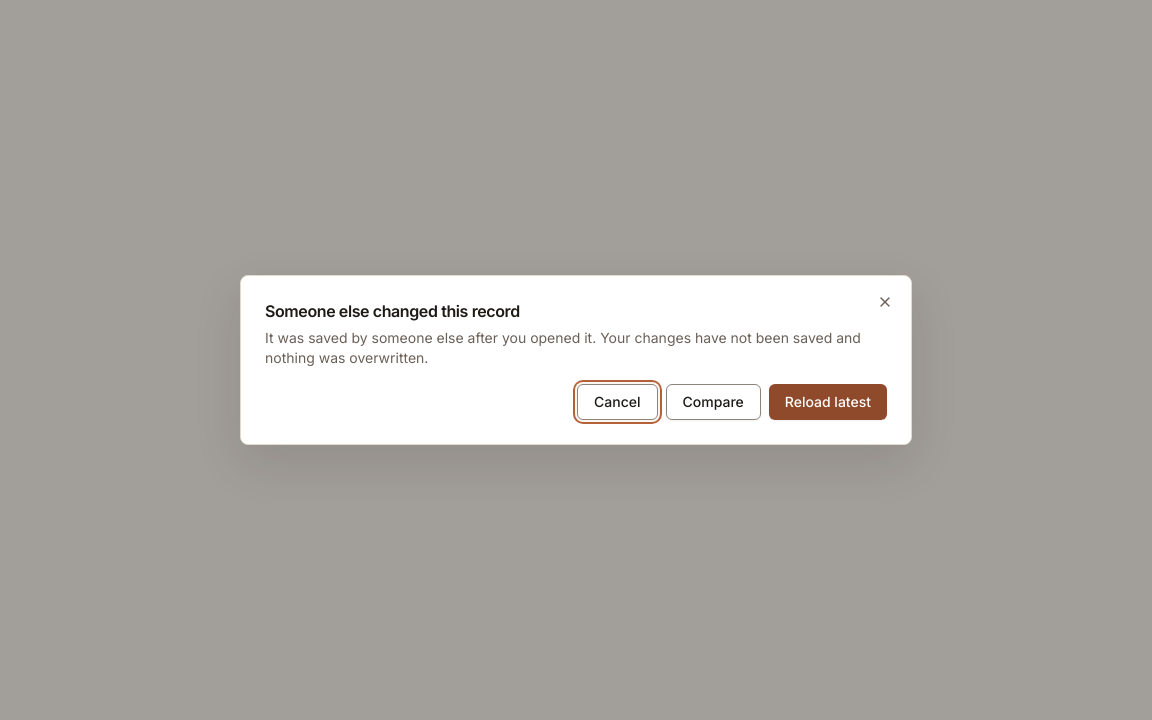
Scenario: VersionConflictDialog › treats empty text and null as the same value
Click the button "Compare" at (713, 402), box [666,384,761,420]
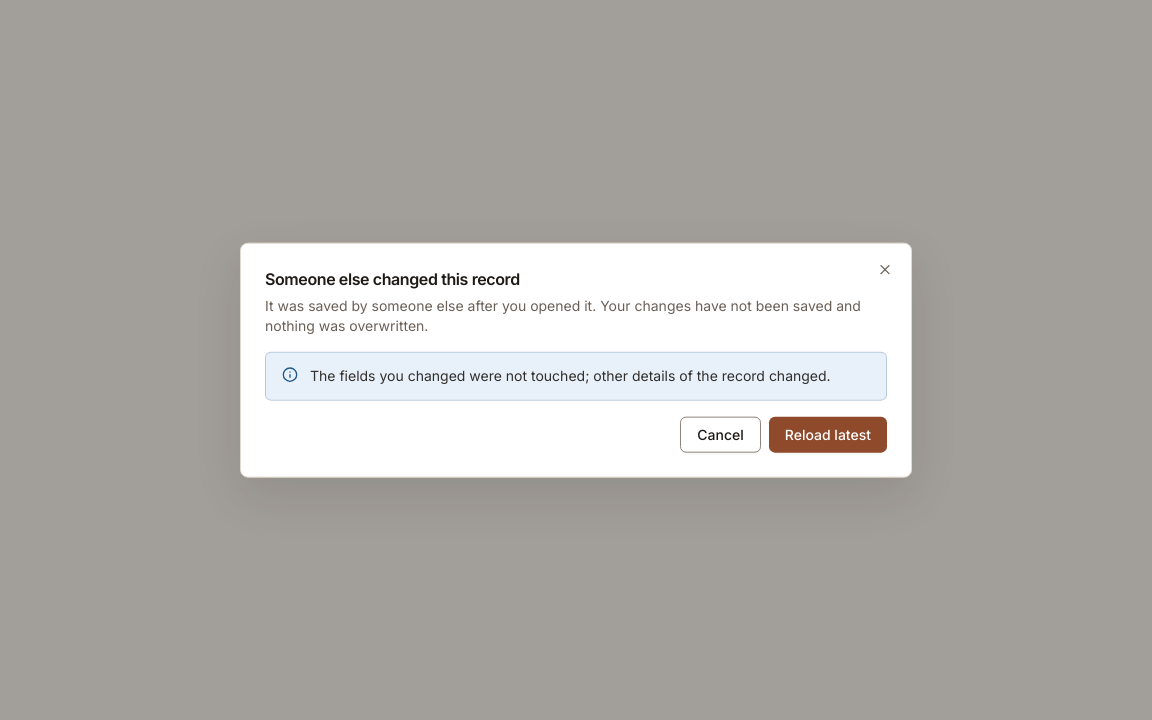
Result: the text "The fields you changed were not touched" is shown at [310,367,831,384]
